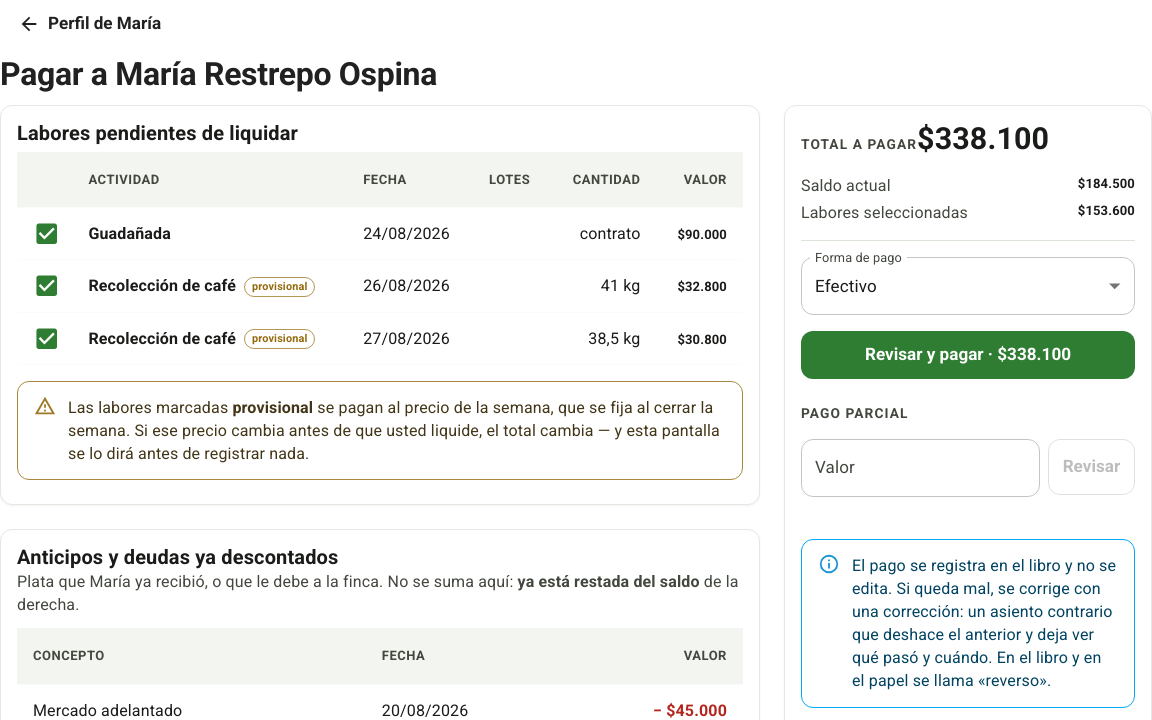
Test: closing dialogs with Escape › closes the confirmation without paying
Step 1. Click the button "Revisar y pagar · $338.100" → (968, 355), box 801,331 -> 1135,379
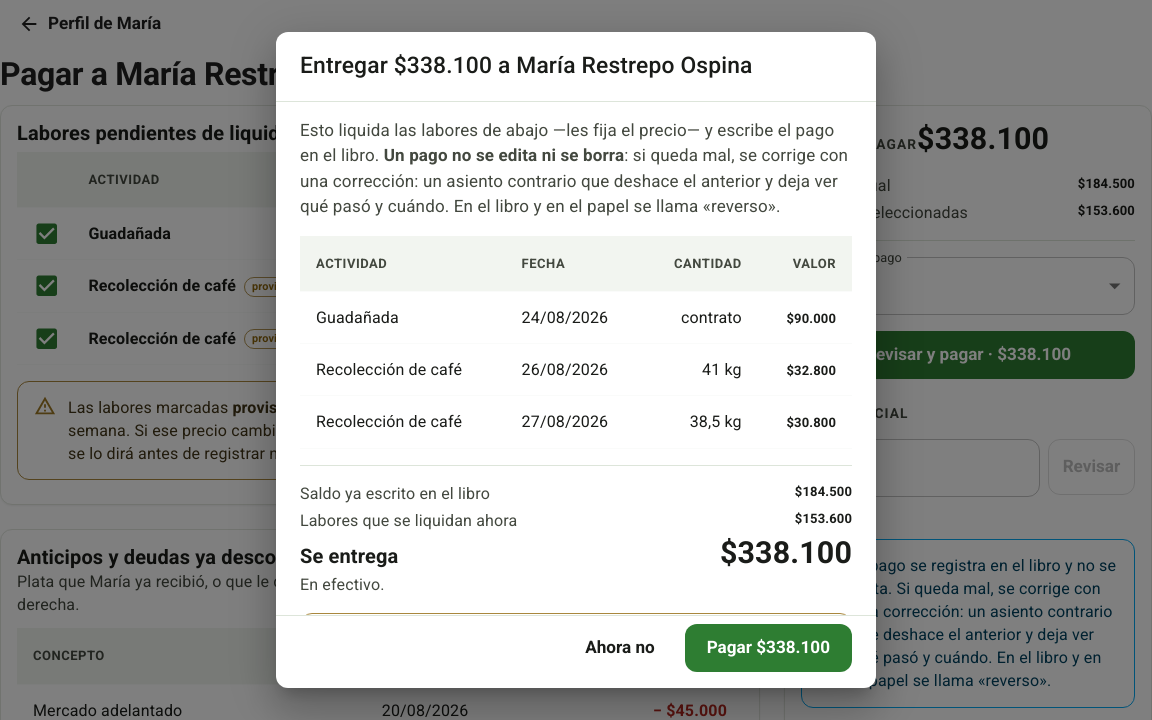
Step 2. Press Escape
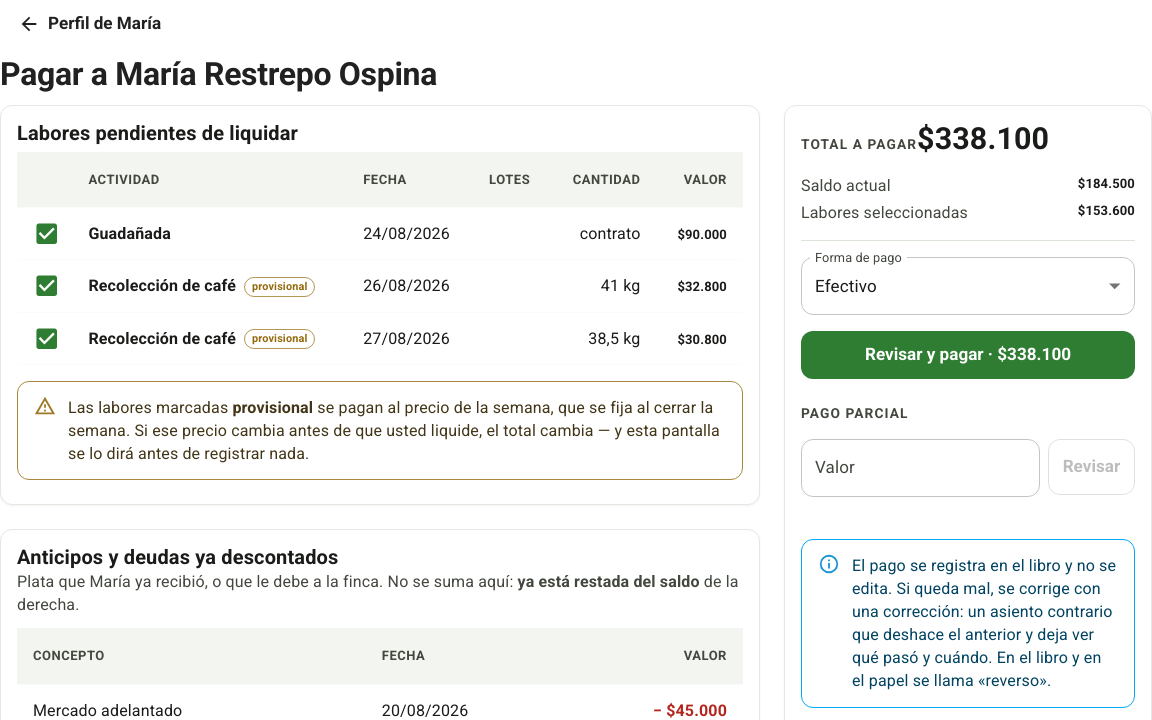
Expected: the heading "Entregar $" is gone
